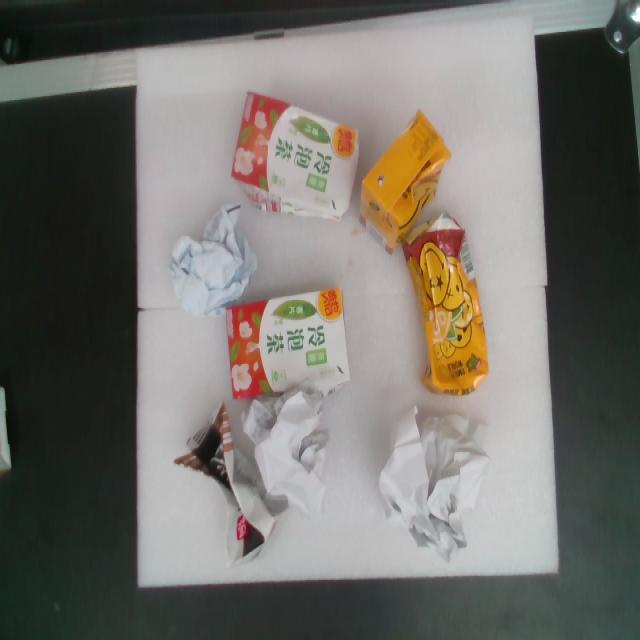juicebox: (136, 403, 310, 582), (383, 197, 501, 407), (214, 79, 376, 230), (332, 102, 480, 264), (210, 274, 363, 407)
paper: (340, 381, 519, 591), (146, 183, 274, 322), (231, 374, 346, 512)
